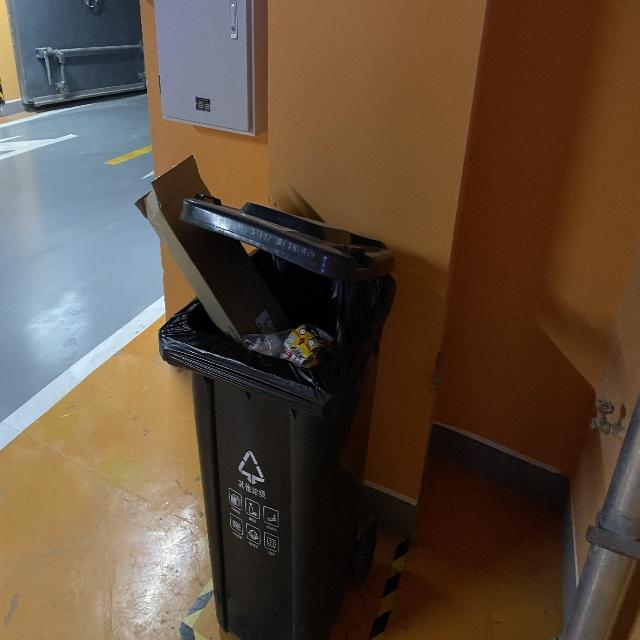overflow: (133, 154, 395, 639)
